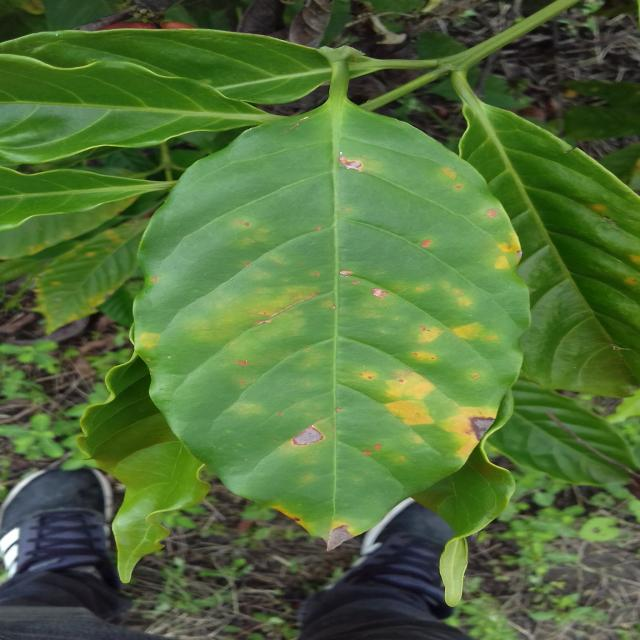Enfermedad-Roya: (135, 108, 521, 541)
